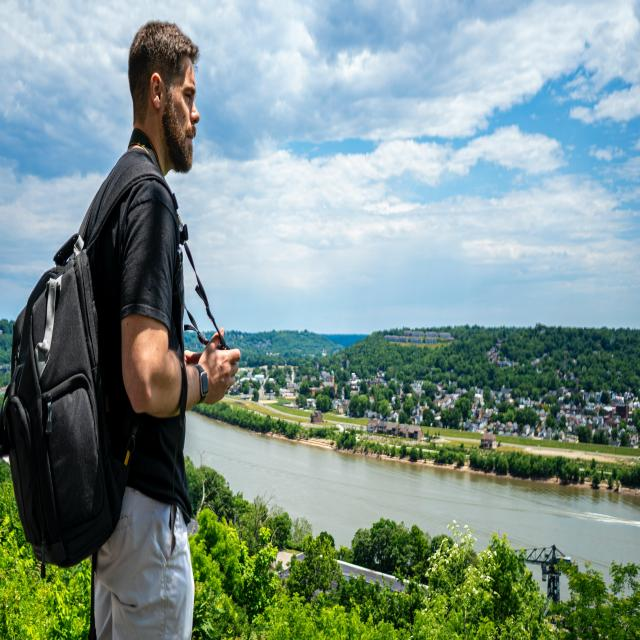backpack: (2, 178, 180, 585)
